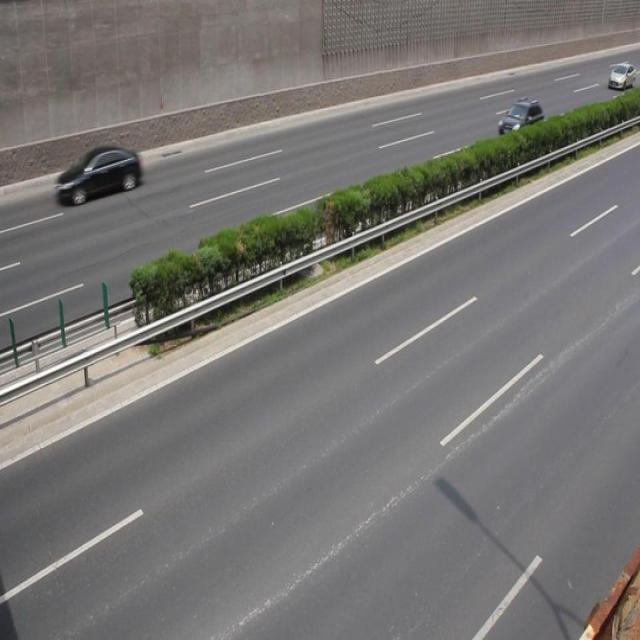car: (54, 145, 142, 207), (496, 98, 545, 146)
